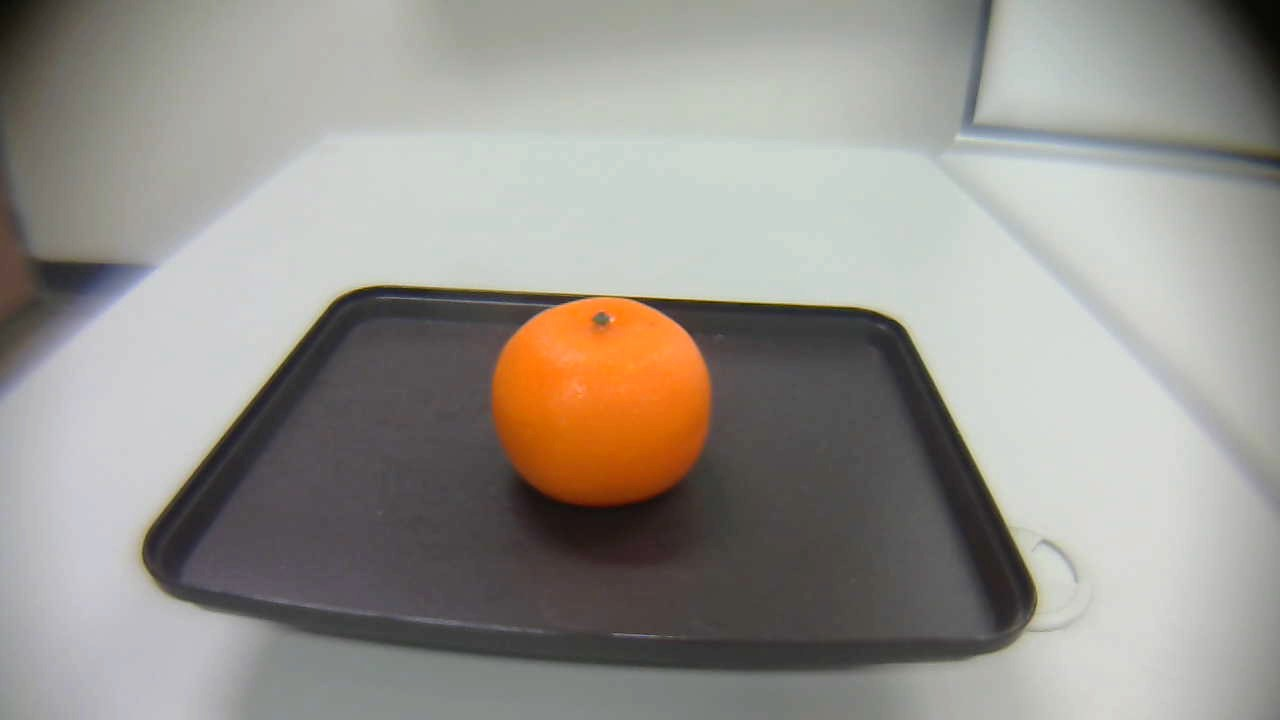orange: (486, 288, 717, 514)
